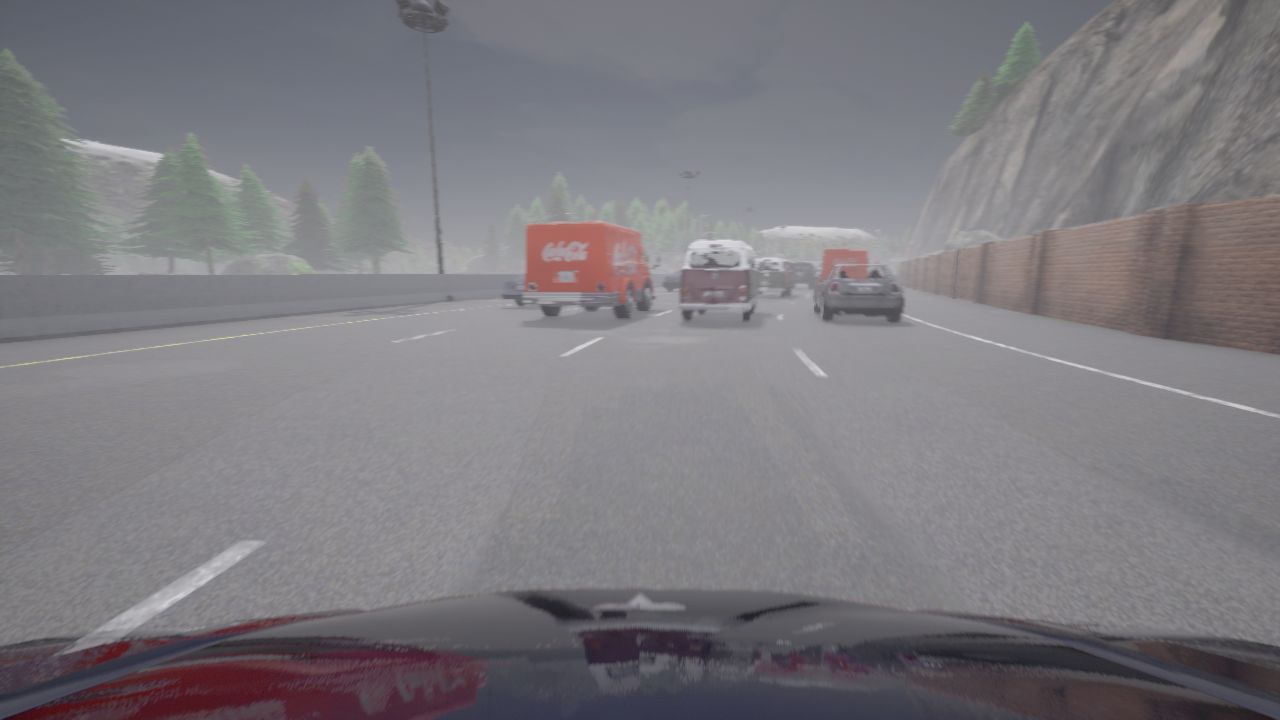cyclist: (0, 588, 1279, 719), (523, 221, 659, 318), (679, 239, 763, 321), (814, 263, 903, 322), (818, 249, 868, 282), (756, 257, 795, 297), (501, 274, 525, 305), (792, 263, 818, 288), (664, 271, 681, 290)
